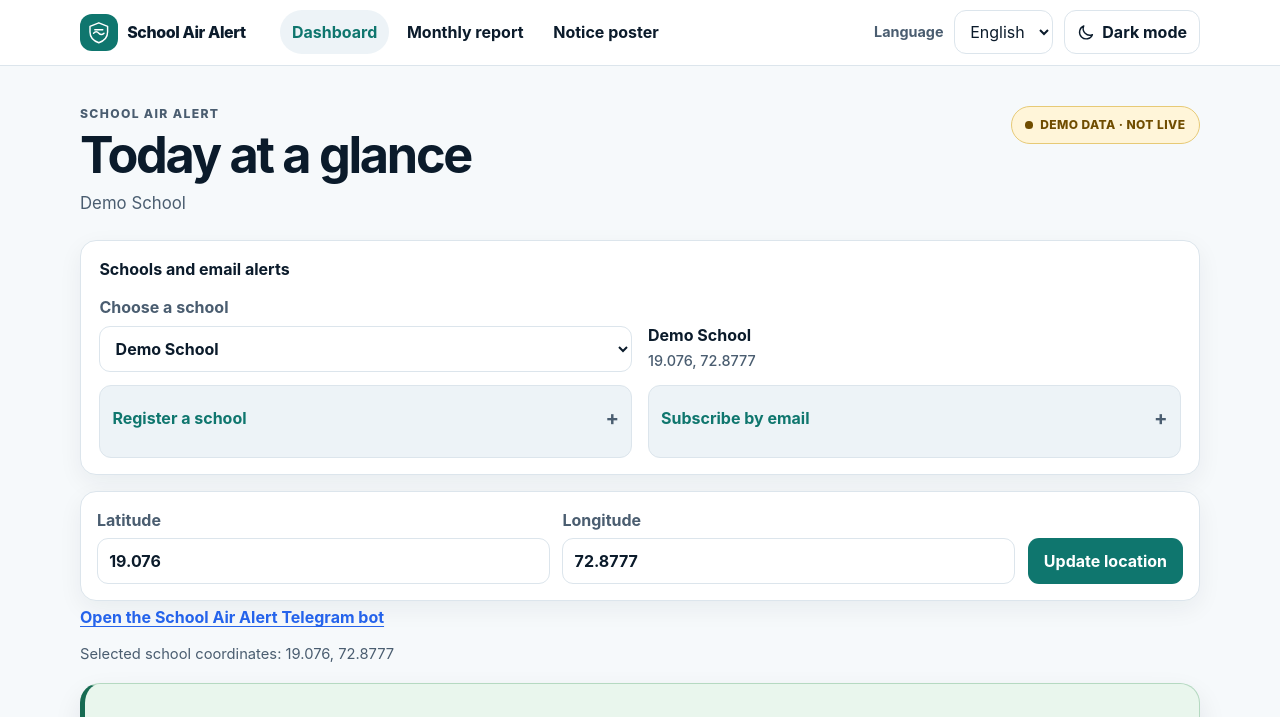
Test case: dashboard states › keeps both school forms and the location editor available when both disclosures are open
This screenshot has width=1280, height=717.
Expected: the dropdown labelled "Choose a school" is shown, x1=99 y1=326 x2=632 y2=372
Click the heading "Register a school" at (180, 418), box x1=112 y1=408 x2=247 y2=428
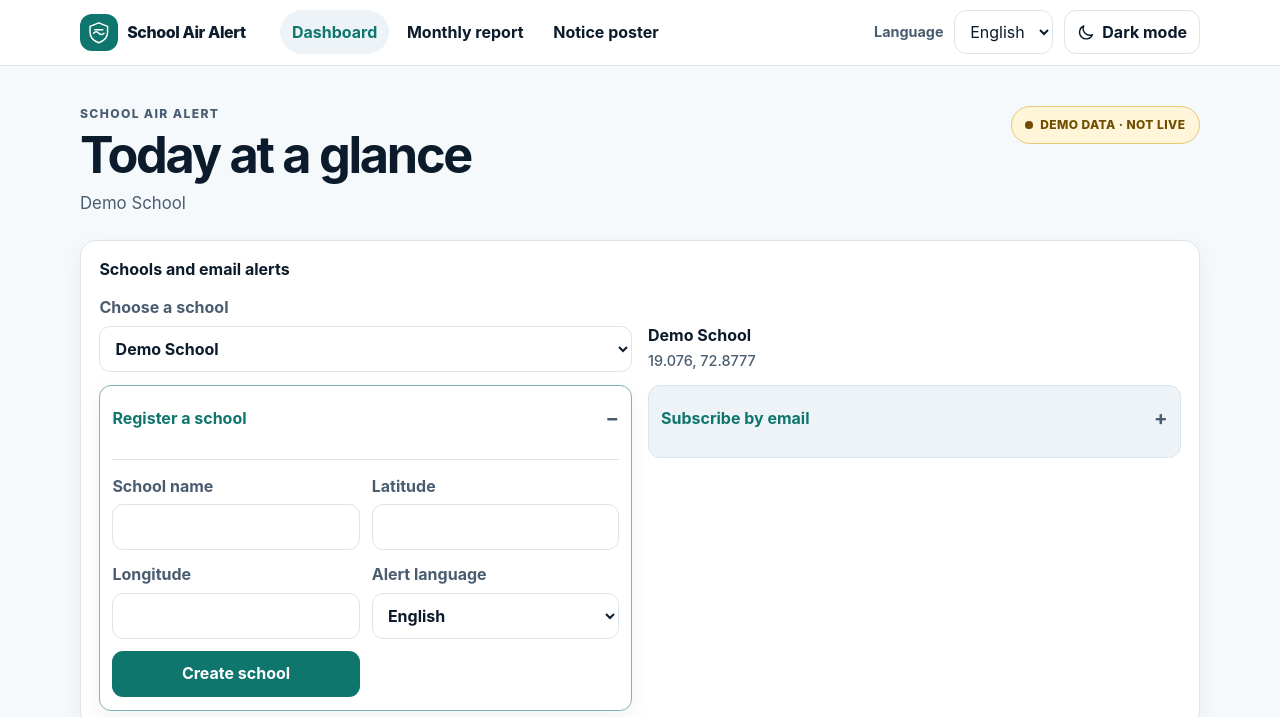
Click the heading "Subscribe by email" at (735, 418), box x1=661 y1=408 x2=810 y2=428
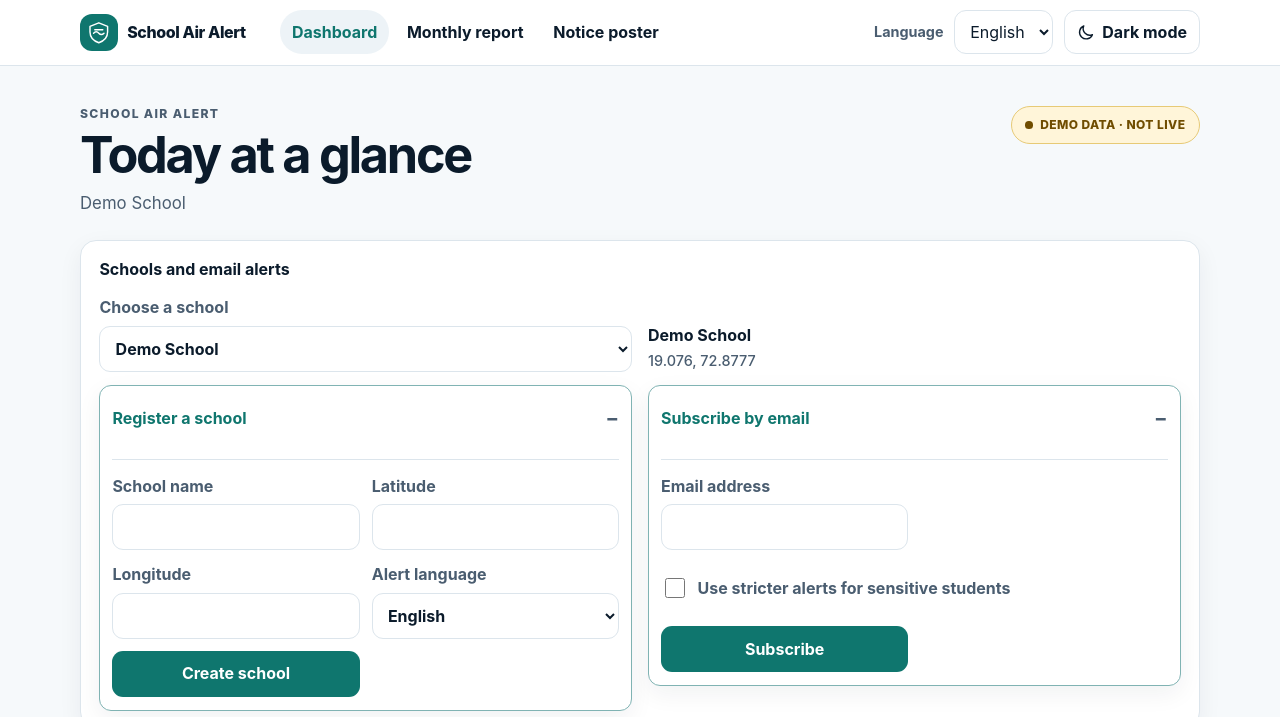
Expected: the button "Create school" is shown, x1=112 y1=651 x2=360 y2=697
Expected: the button "Subscribe" is shown, x1=661 y1=626 x2=908 y2=672
